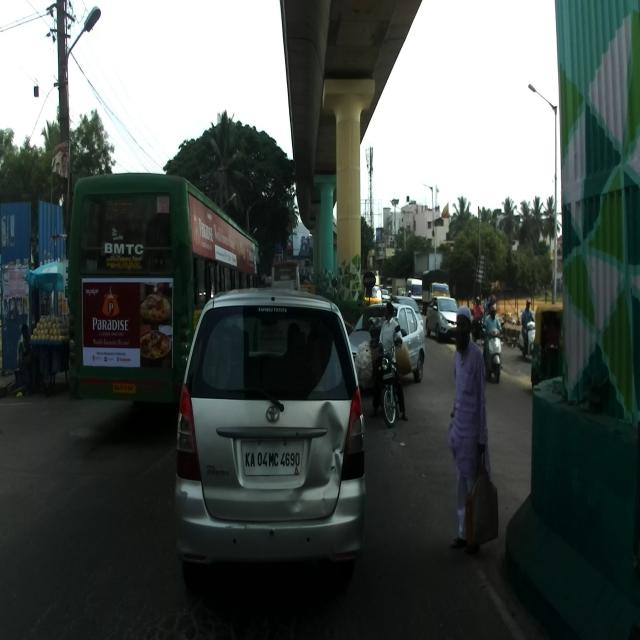Car_TATA: (348, 300, 426, 384), (425, 295, 459, 342)
Car_Toyota: (172, 284, 368, 600)
bus: (68, 171, 266, 420)
motorcycle_TVS: (370, 323, 402, 425)
scooter: (482, 321, 504, 383), (517, 320, 536, 358)
